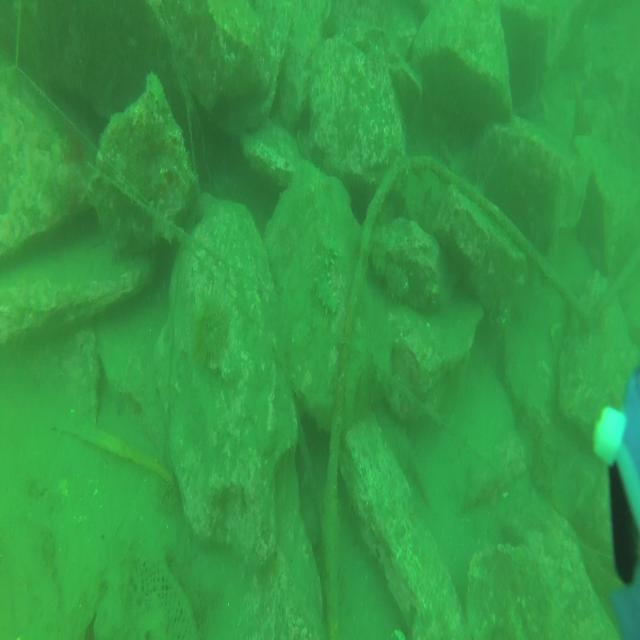echinus: (191, 295, 236, 373)
holothurian: (312, 232, 342, 321), (144, 67, 167, 113)
